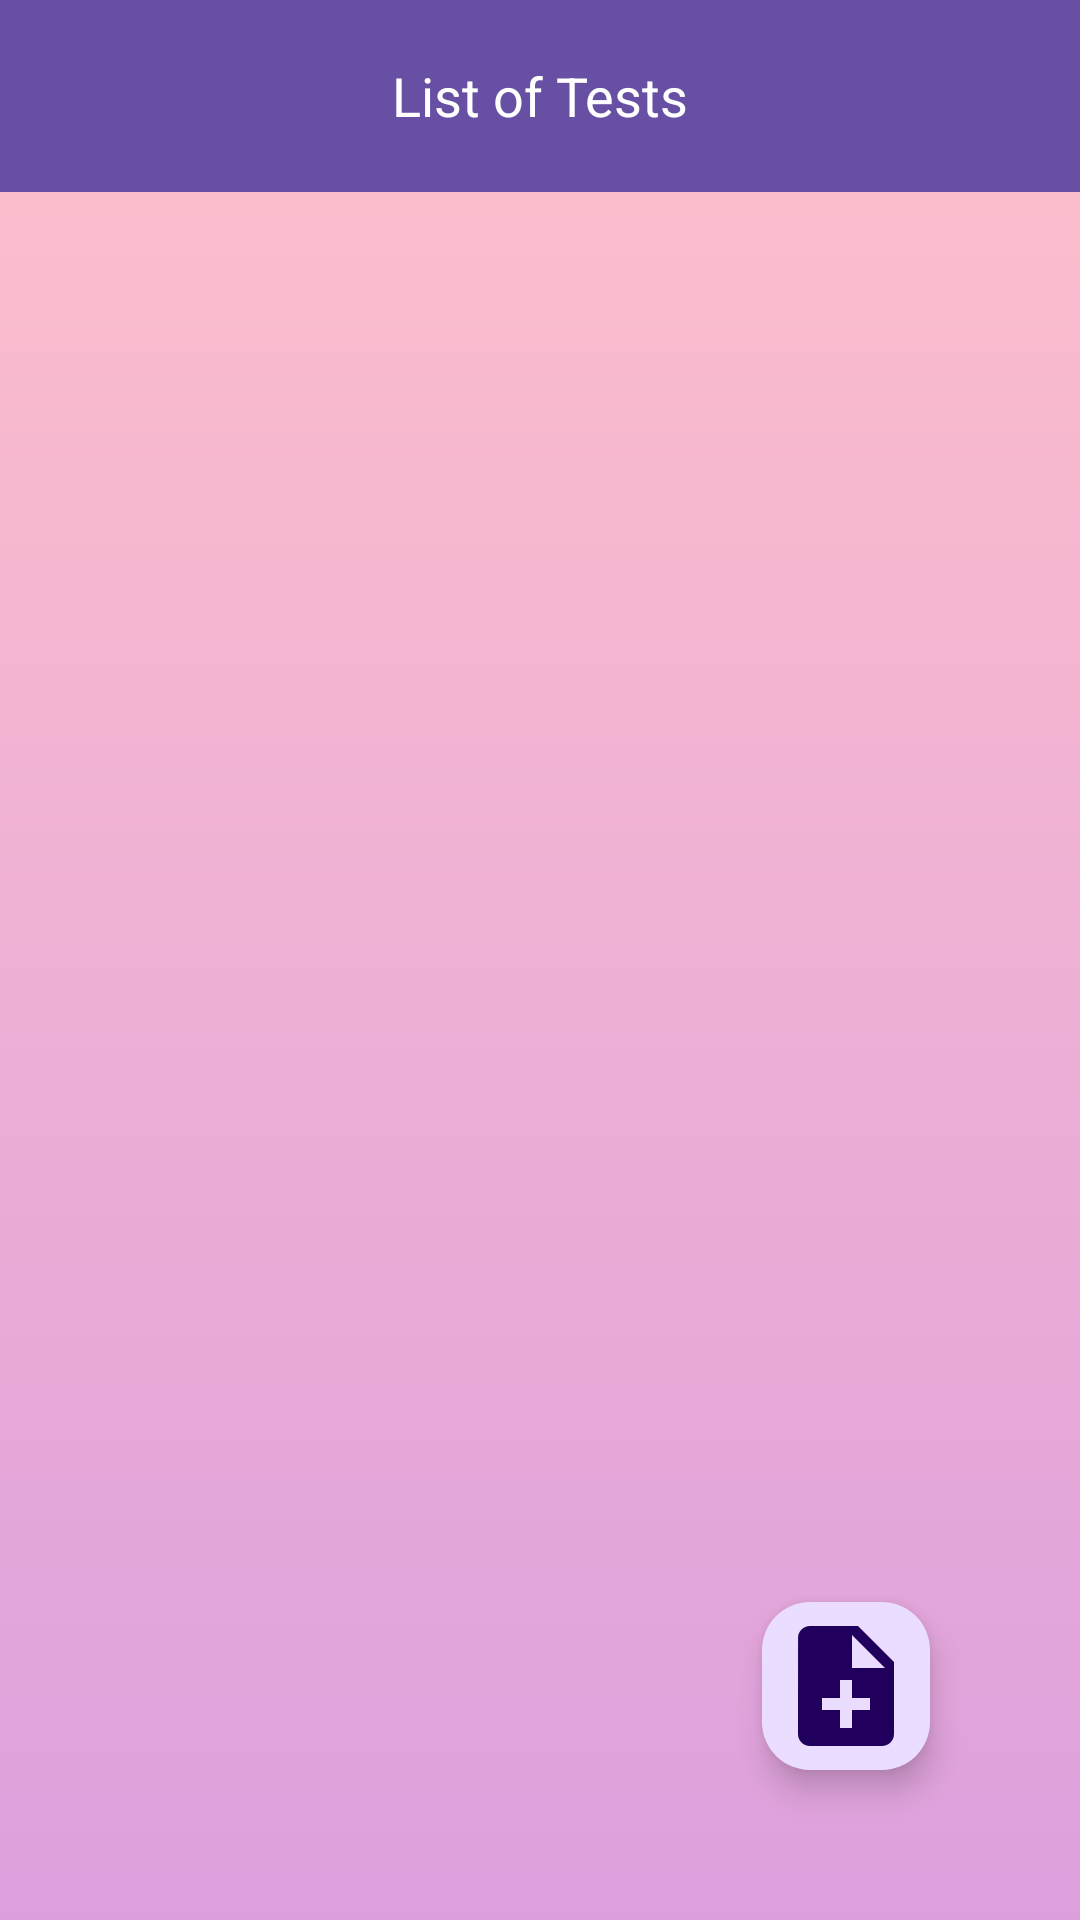

Named icons in this screenshot (1080px×1920px) and their bounding boxes, detection(x1, y1, x2, y2):
add: detection(762, 1602, 930, 1770)
